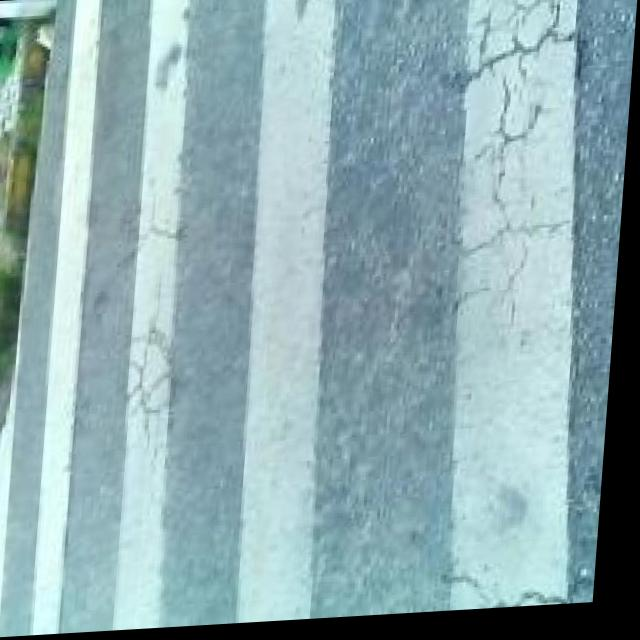zebra: (35, 16, 635, 628)
